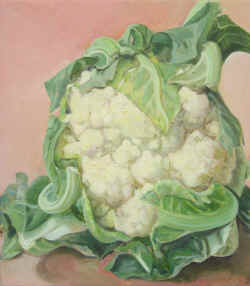cauliflower: (0, 1, 249, 282)
